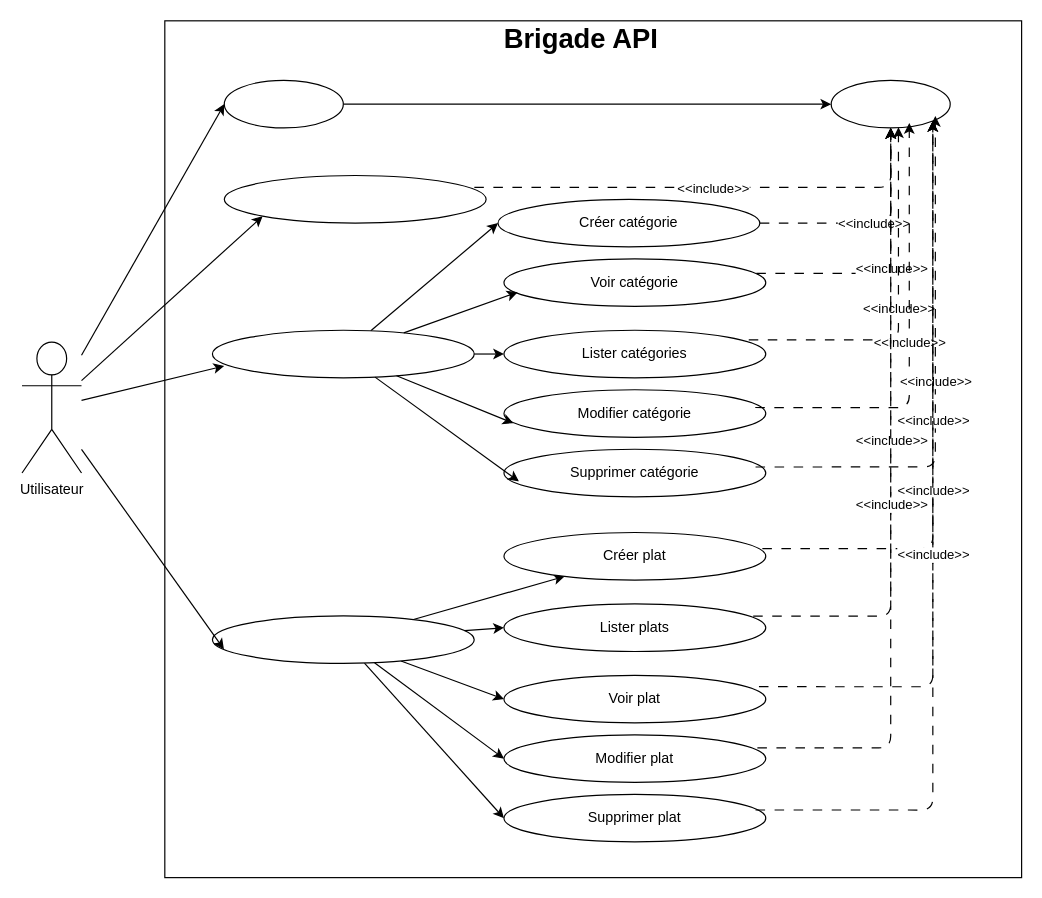
Image size: 1042x898. Some labels were removed from this diagram. The shapes that lost their labels are listed below. From the top down, each one's centre as x and y in pixels, then its label:
At pixel 283 103: "S’inscrire".
At pixel 890 103: "Se connecter".
At pixel 354 198: "Voir son profil".
At pixel 342 353: "Gérer catégories".
At pixel 342 639: "Gérer plats".
